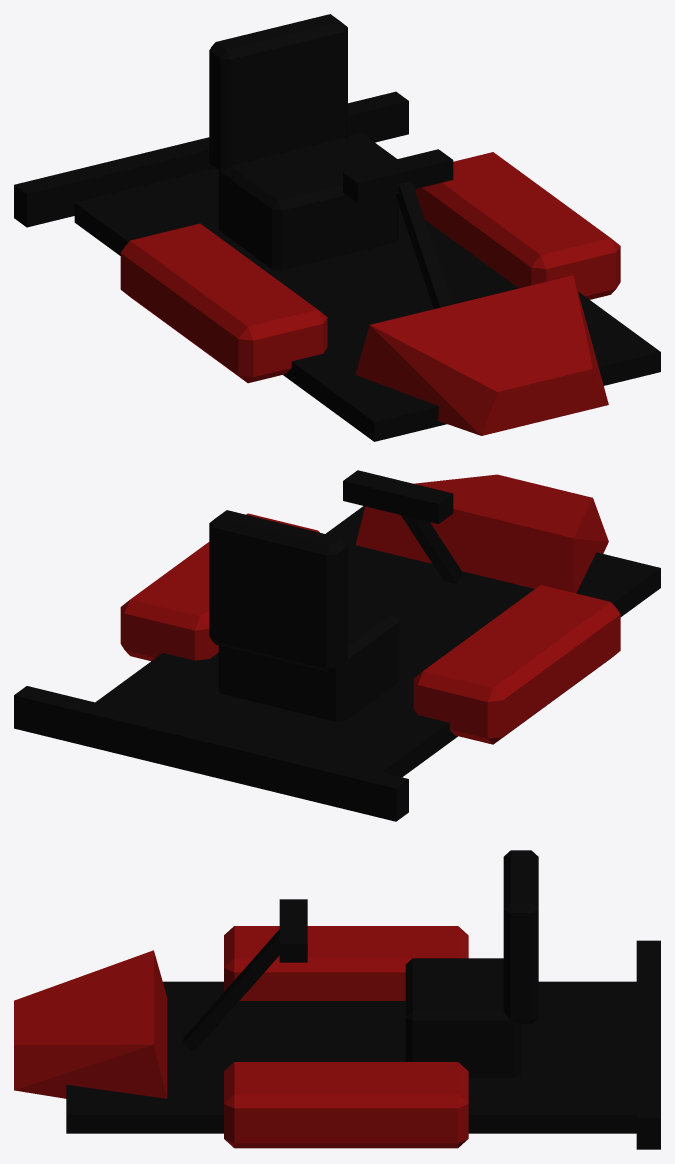
File: Kart.obj
The picture shows the model from 3 angles, top to bottom: view 1: azimuth 30°, elevation 25°; view 2: azimuth 150°, elevation 25°; view 3: azimuth 270°, elevation 25°; orthographic projection. The views are drawn at different scales.
Visible parts, largest first — view 1: Trim, Body; view 2: Trim, Body; view 3: Trim, Body.
Boxes of the visible parts, x1,y1,x2,y2 form: Trim: (14,14,660,441); Body: (120,152,620,435); Trim: (14,470,660,821); Body: (120,474,620,744); Trim: (66,850,660,1149); Body: (14,926,468,1148).
Size of the model in its own units: 1.2 by 0.6 by 1.85.
